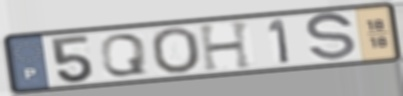1: (266, 17, 293, 66)
5: (48, 33, 96, 85)
H: (196, 19, 256, 73)
O: (149, 26, 204, 75)
Q: (98, 32, 150, 78)
S: (304, 11, 359, 65)
